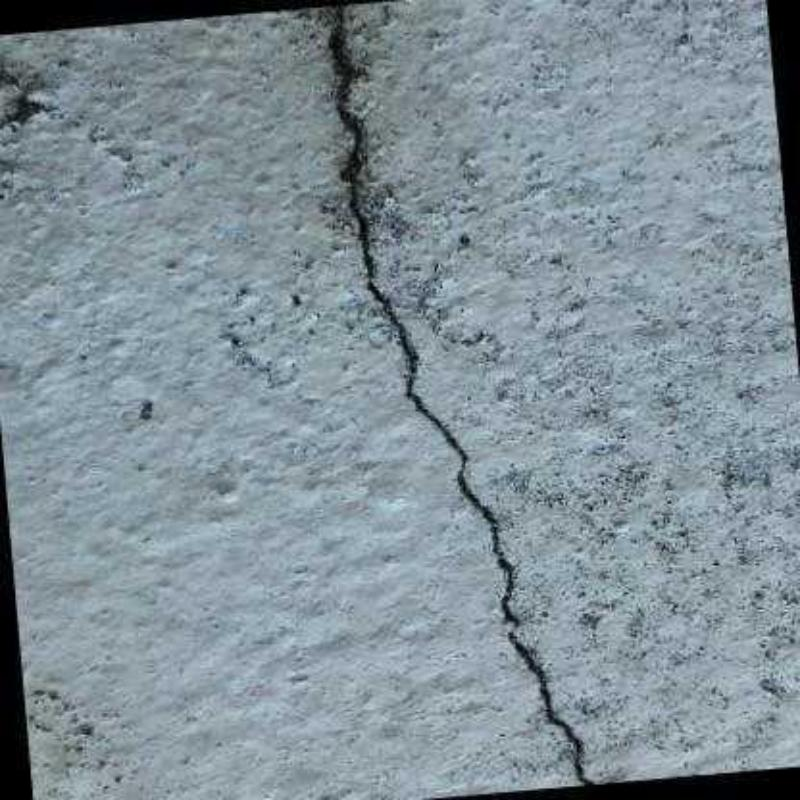pothole: (322, 2, 521, 629), (504, 627, 616, 785)
